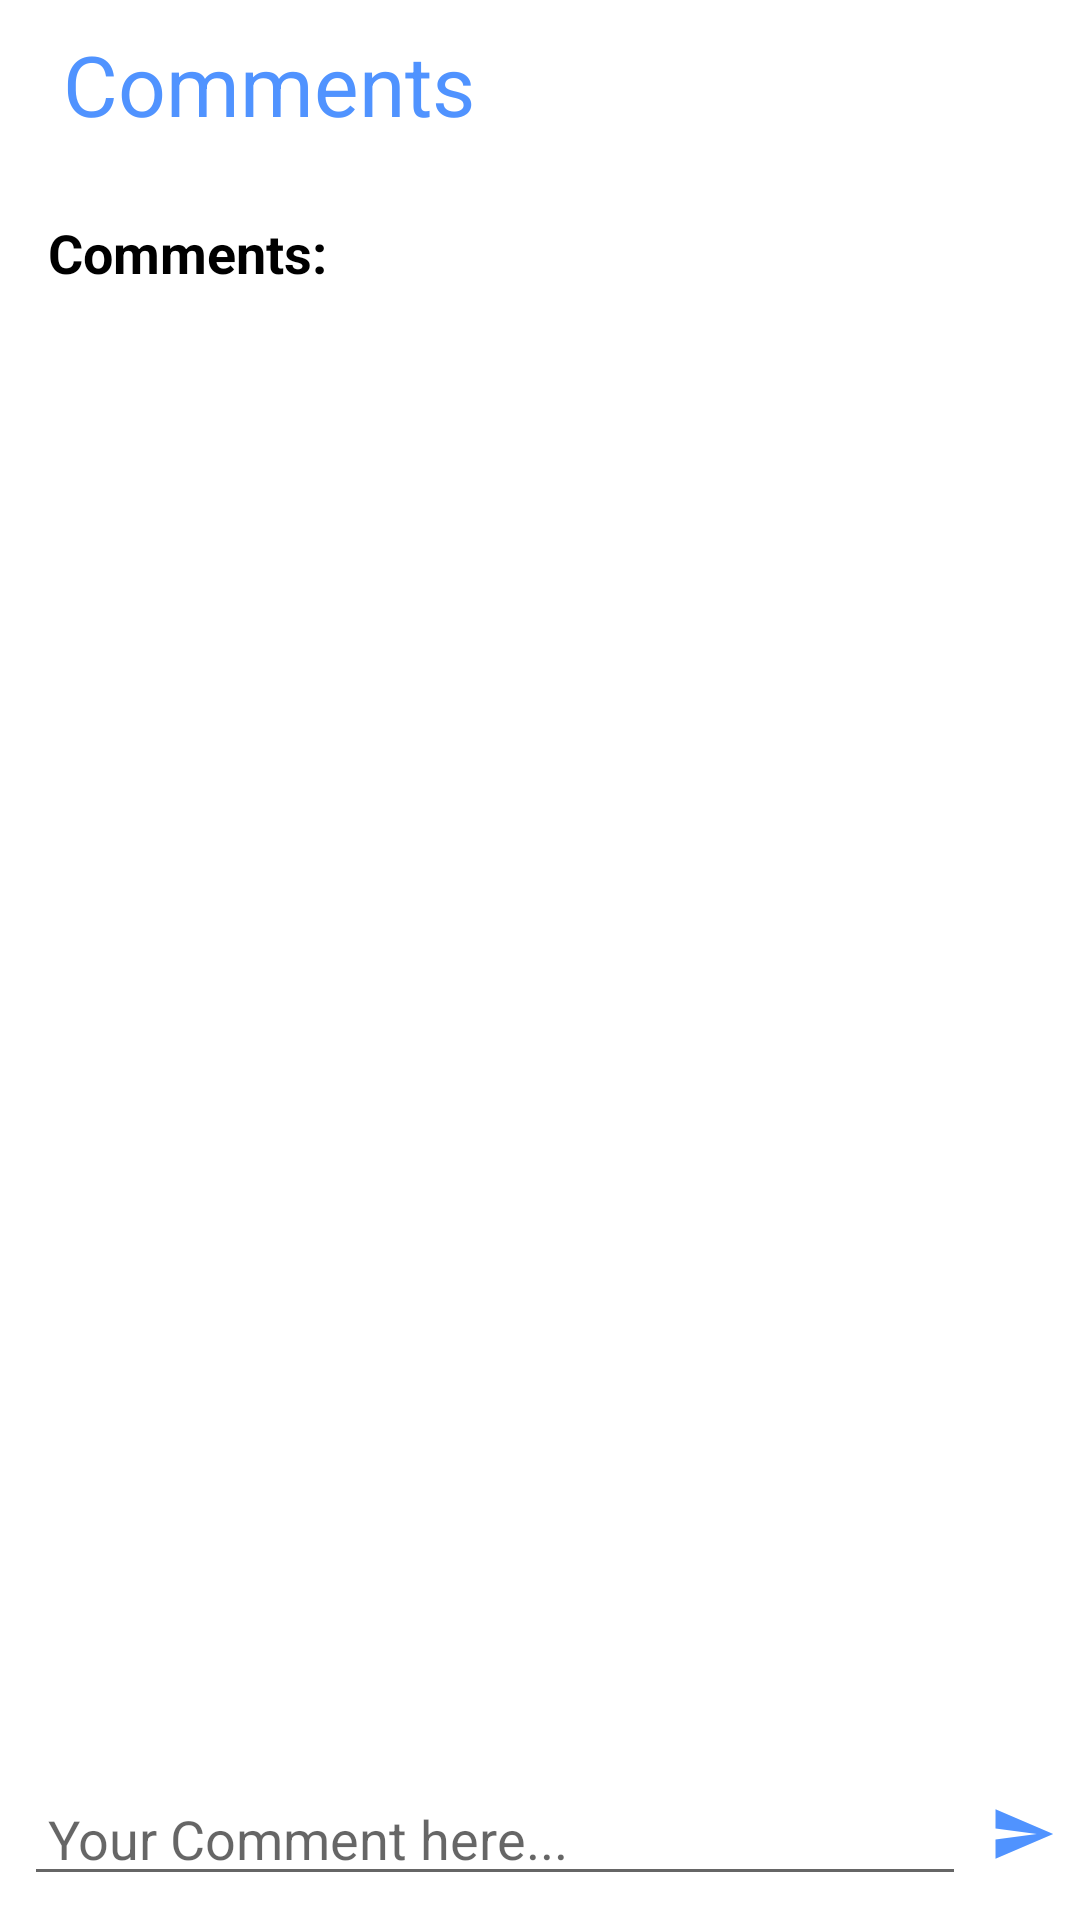

Where icons sit on this 1080*1920 app screen, as (x1, y1, x2, y2):
send: (995, 1809, 1053, 1859)
